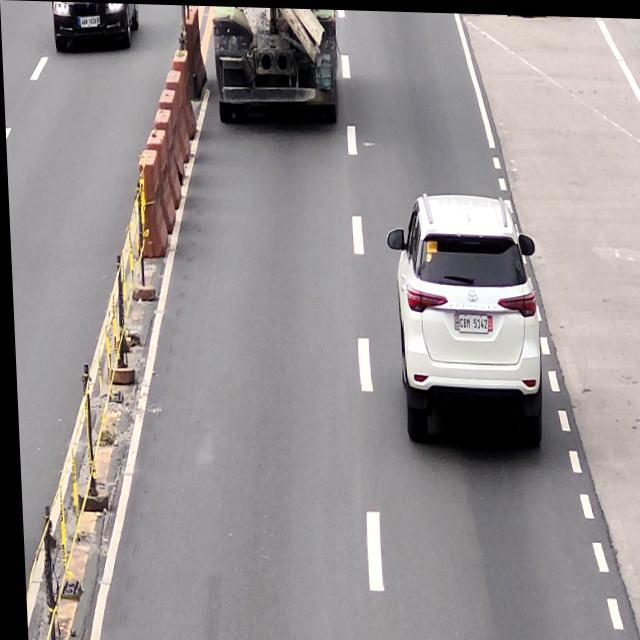Car: (383, 186, 542, 448)
License-Plate: (454, 310, 487, 331)
Truck: (212, 5, 341, 128)
